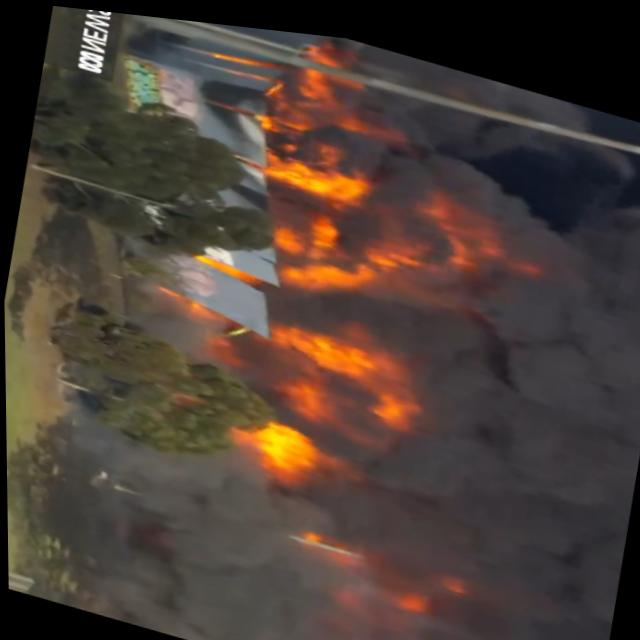Fire: (266, 197, 424, 317), (234, 396, 337, 488), (266, 305, 391, 378), (253, 141, 371, 210), (450, 190, 524, 283), (287, 38, 352, 92), (371, 382, 424, 435), (293, 365, 334, 413)
